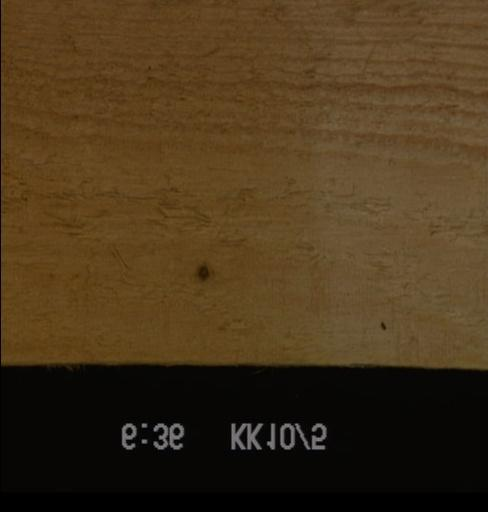small_knot: (192, 258, 211, 287), (373, 317, 388, 336)
